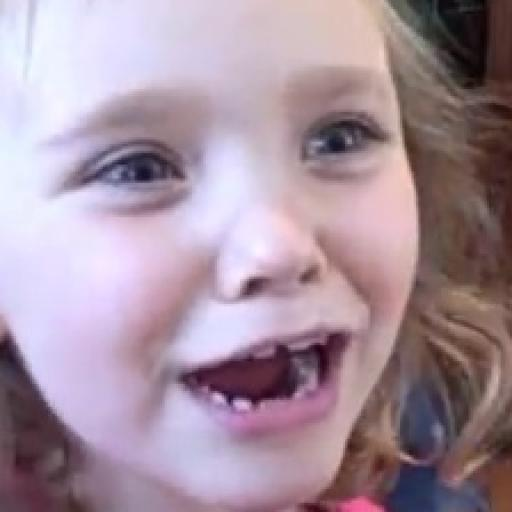Autism: (2, 8, 466, 512)
